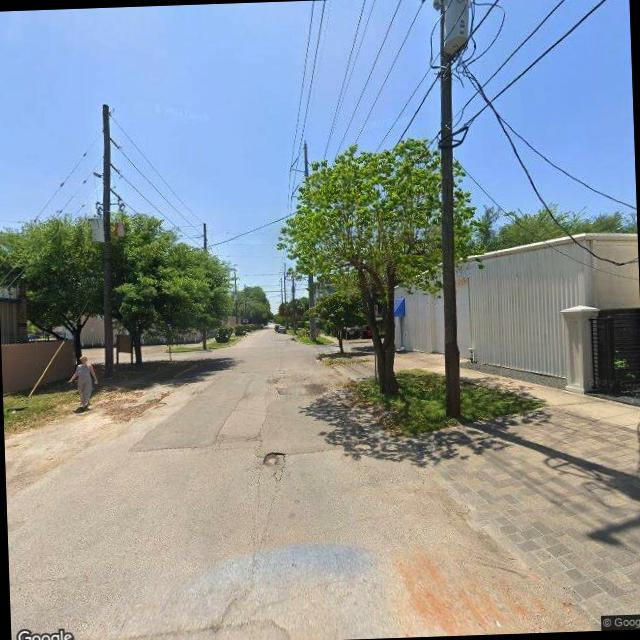pothole: (256, 446, 287, 466)
